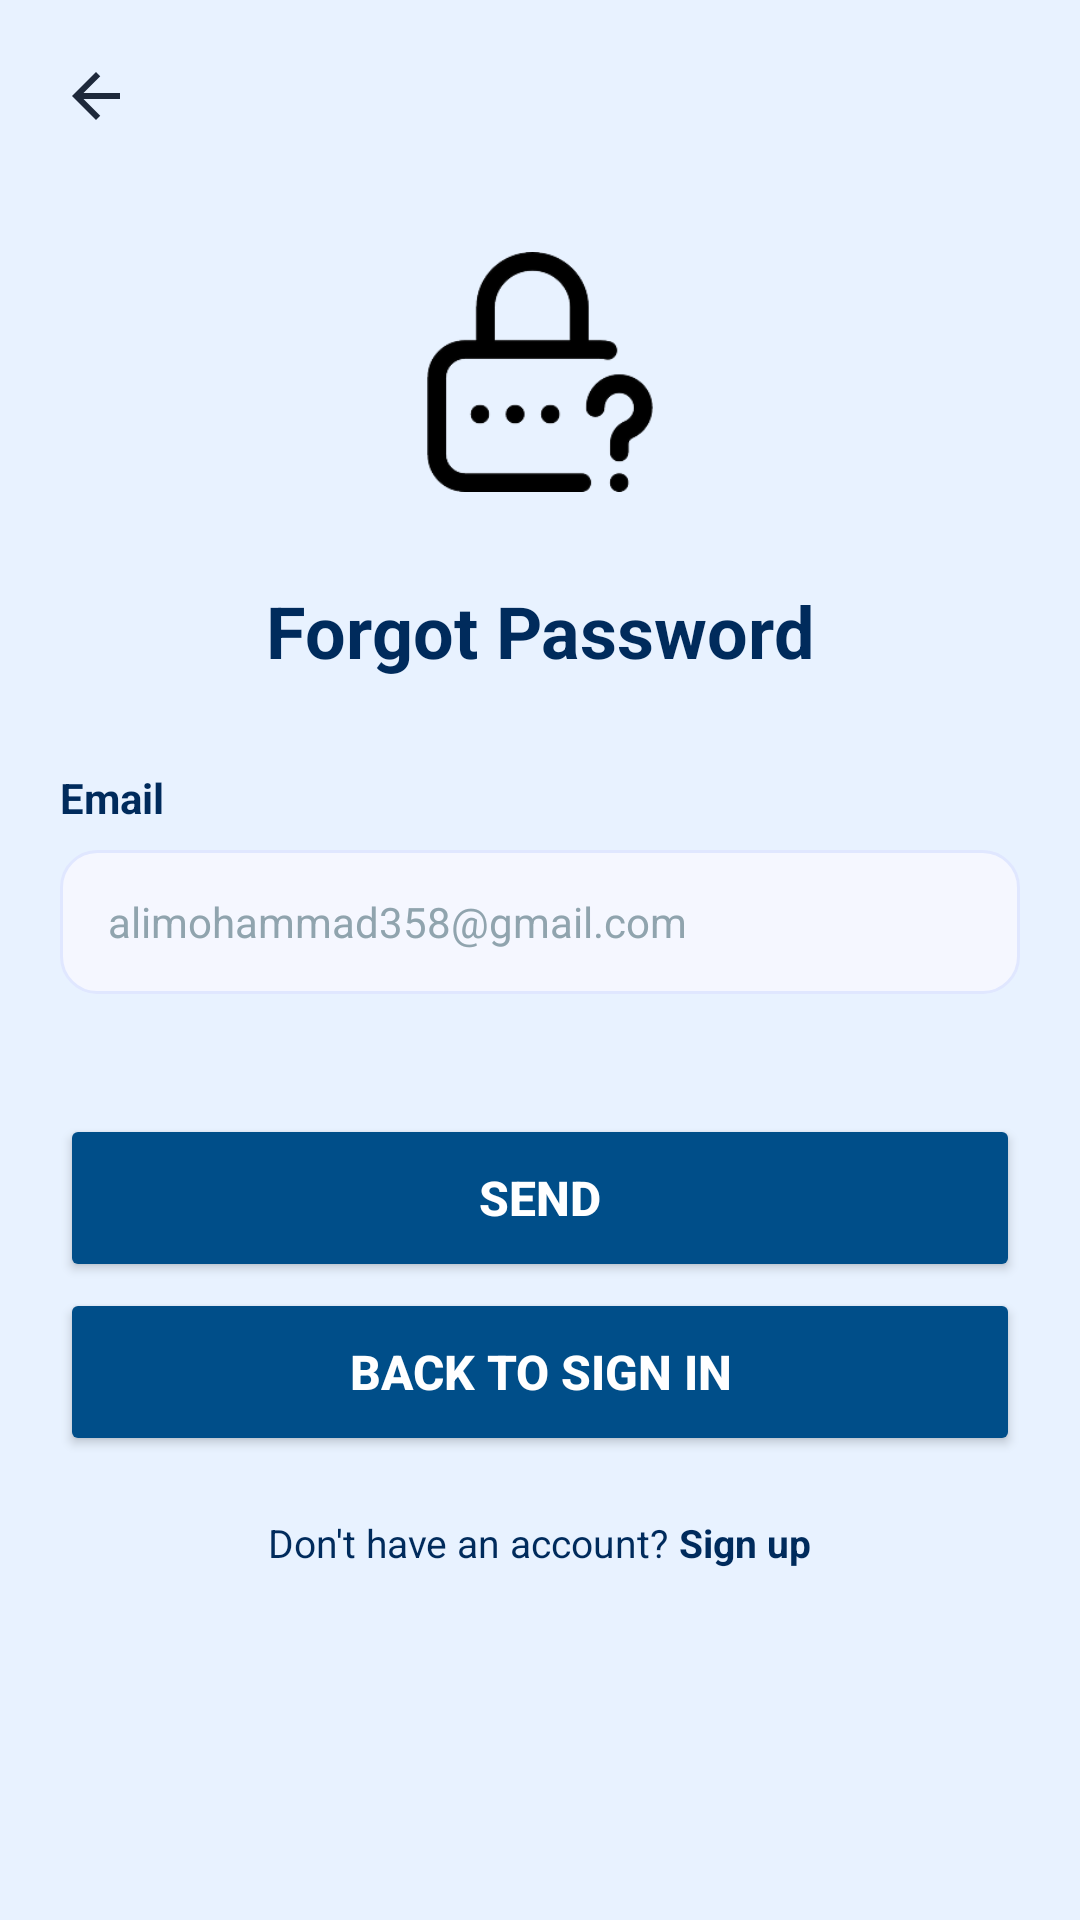

Where icons sit on this 1080*1920 app screen, as (x1, y1, x2, y2):
Back: (72, 72, 120, 120)
Lock Icon: (427, 252, 653, 492)
